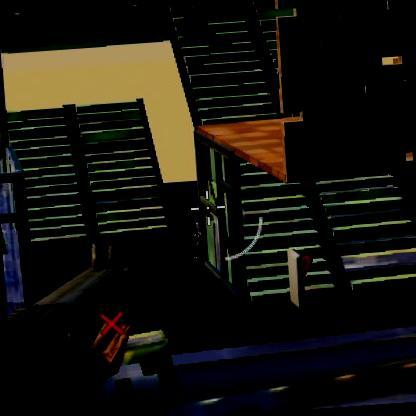person: (194, 219, 204, 256)
